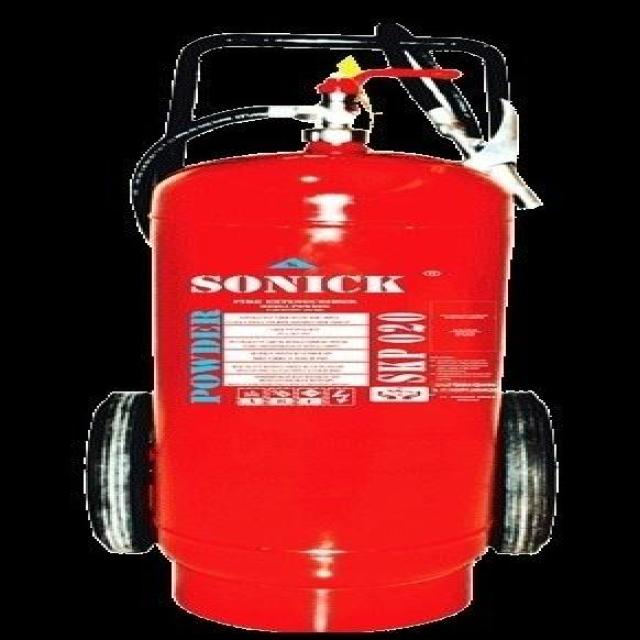fire_extinguisher: (116, 21, 550, 638)
